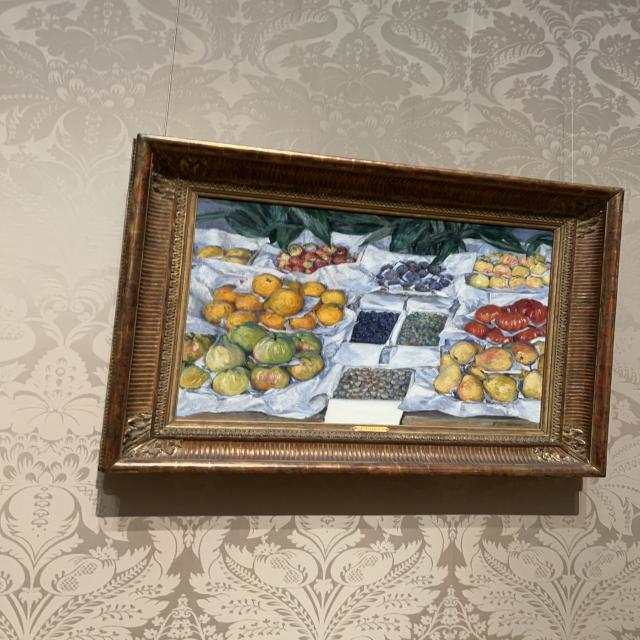fruits: (177, 196, 555, 429)
